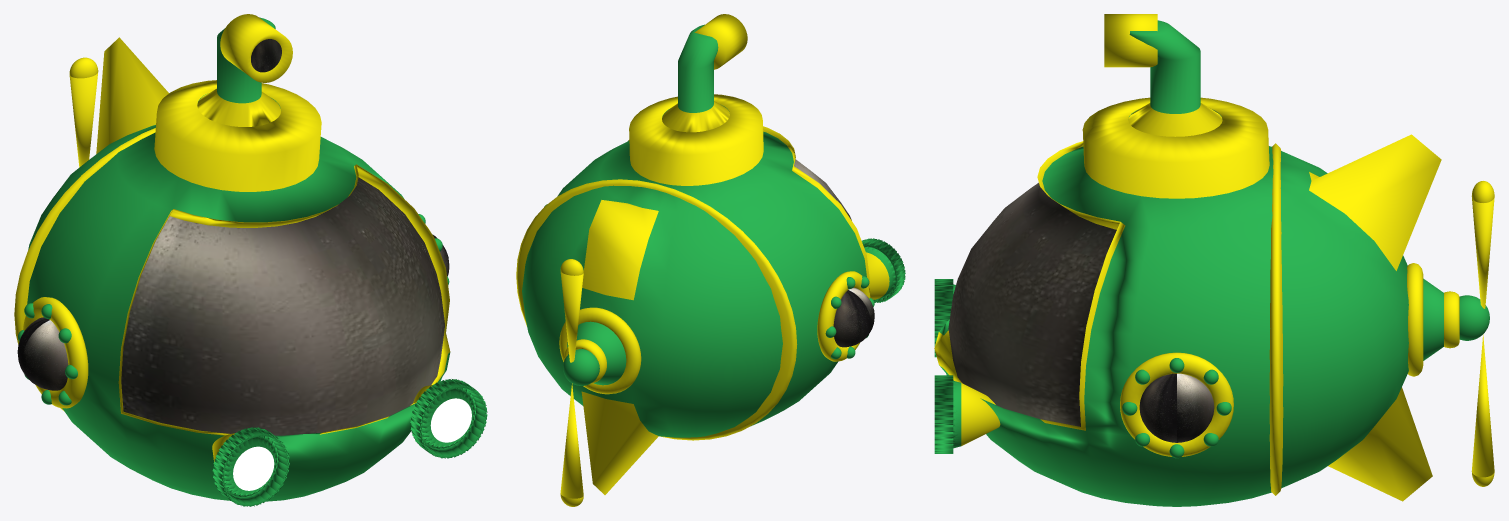
Rendered from GREENDSUBMARINE.glb.
The picture shows the model from 3 angles, left to right: view 1: azimuth 30°, elevation 25°; view 2: azimuth 150°, elevation 25°; view 3: azimuth 270°, elevation 25°; orthographic projection. The views are drawn at different scales.
Parts seen in each view (by area): view 1: core, fenetre, Light 1, Light2, Object, elice; view 2: core, tail, fenetre, elice, Light 1, Object, centreElice; view 3: core, Fenetre2, tail, elice, Light2, Object, centreElice, Light 1.
Part boxes in pixels (box(x1,y1,x2,y2)): core: box(14, 17, 450, 501); fenetre: box(17, 297, 88, 408); Light 1: box(212, 427, 289, 506); Light2: box(410, 379, 487, 458); Object: box(220, 14, 292, 82); elice: box(69, 57, 98, 167); core: box(516, 24, 870, 494); tail: box(559, 307, 641, 394); fenetre: box(817, 271, 874, 361); elice: box(560, 259, 583, 506); Light 1: box(862, 238, 905, 302); Object: box(694, 14, 747, 69); centreElice: box(563, 349, 599, 385); core: box(934, 20, 1441, 506); Fenetre2: box(1120, 352, 1233, 458); tail: box(1407, 263, 1459, 376); elice: box(1471, 181, 1494, 486); Light2: box(934, 375, 1000, 453); Object: box(1104, 14, 1157, 67); centreElice: box(1459, 295, 1489, 340); Light 1: box(934, 279, 955, 357).
Size of the model in its own units: 6.4 by 7.01 by 7.37.
Materials: 8 (7 with a texture image).
